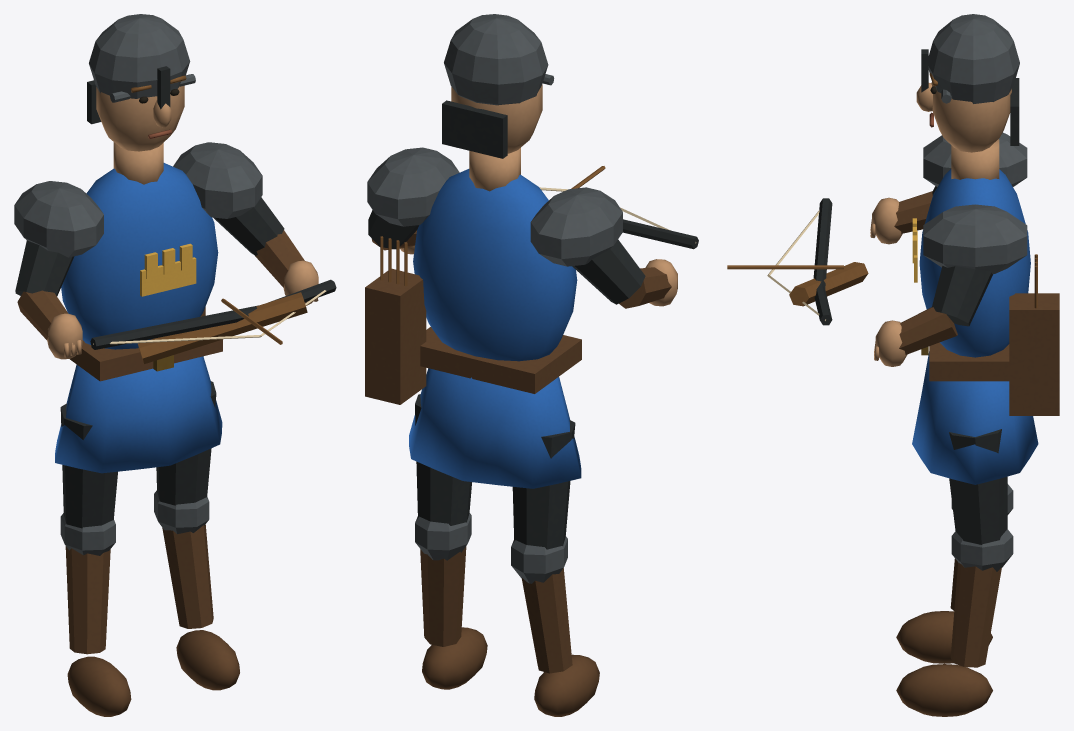
The model's file is SM_Ballestero_A_LOD0.fbx.
3 renders of one model, left to right at view 1: azimuth 30°, elevation 25°; view 2: azimuth 150°, elevation 25°; view 3: azimuth 270°, elevation 25°, orthographic. The views are drawn at different scales.
Visible parts, largest first — view 1: SM_Ballestero_A_LOD0; view 2: SM_Ballestero_A_LOD0; view 3: SM_Ballestero_A_LOD0.
Part boxes in pixels (x1=…): SM_Ballestero_A_LOD0: x1=14, y1=14, x2=336, y2=716; SM_Ballestero_A_LOD0: x1=365, y1=14, x2=698, y2=716; SM_Ballestero_A_LOD0: x1=727, y1=14, x2=1059, y2=716.
Bounding box in the file's own units: 0.1745 × 0.411 × 0.185.
Materials: 1 (1 with a texture image).
